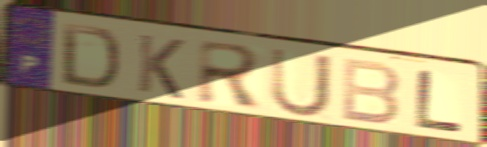B: (338, 56, 402, 128)
D: (59, 21, 123, 93)
K: (134, 31, 187, 102)
L: (413, 67, 467, 135)
R: (196, 38, 266, 111)
U: (269, 45, 334, 120)
